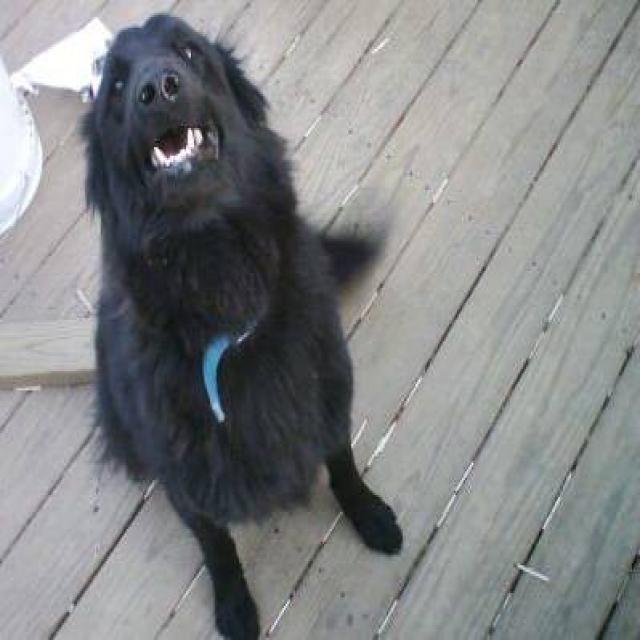dog: (77, 11, 404, 638)
